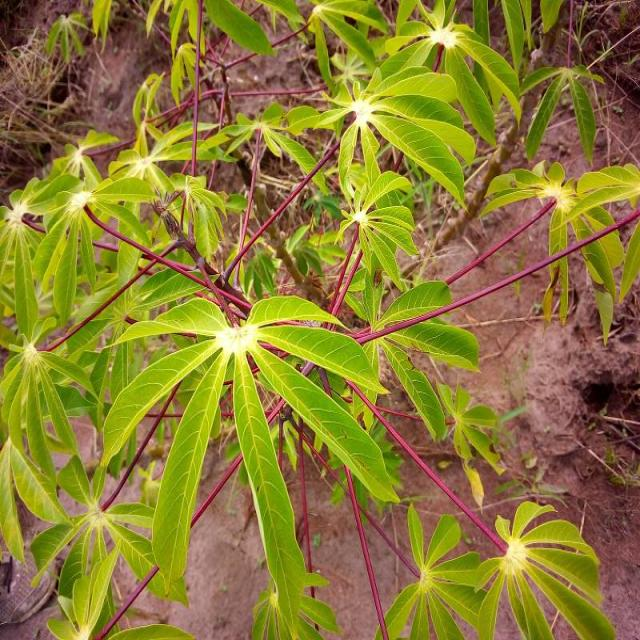cassava leaf: (1, 1, 637, 638), (99, 290, 401, 636)
